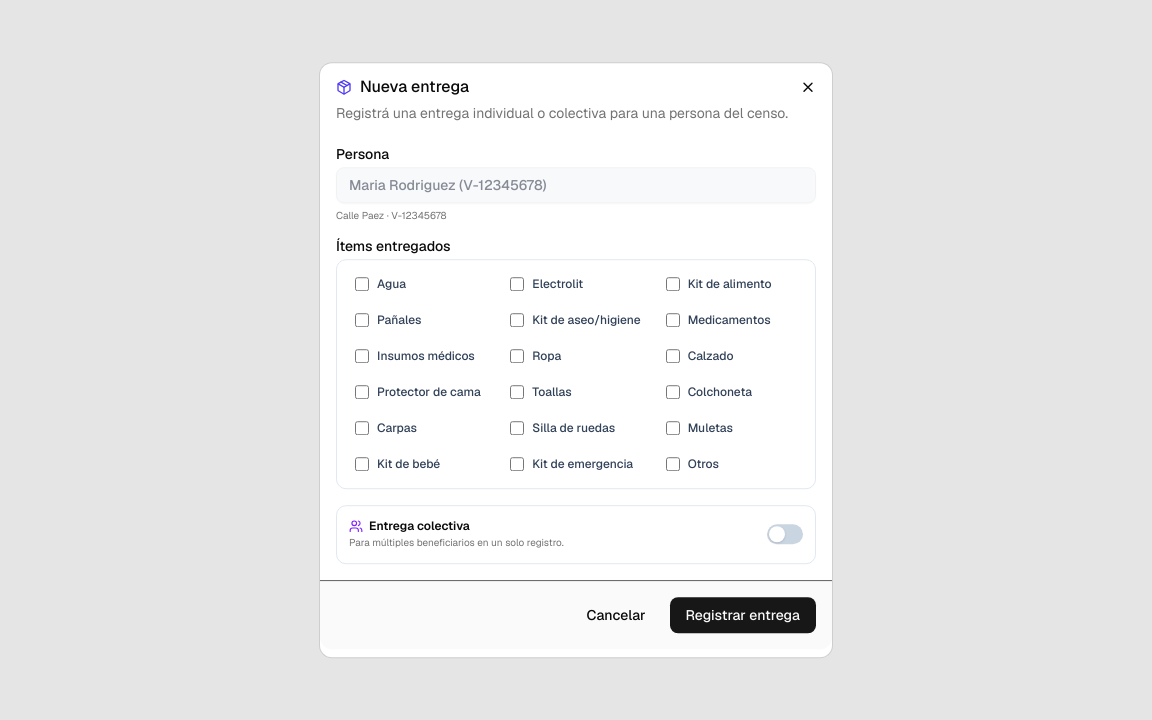
Test: QuickDeliveryDialog › surfaces a server error message in the dialog when createDelivery returns null
Click the checkbox labelled "Agua": (362, 284) [355,278,369,292]
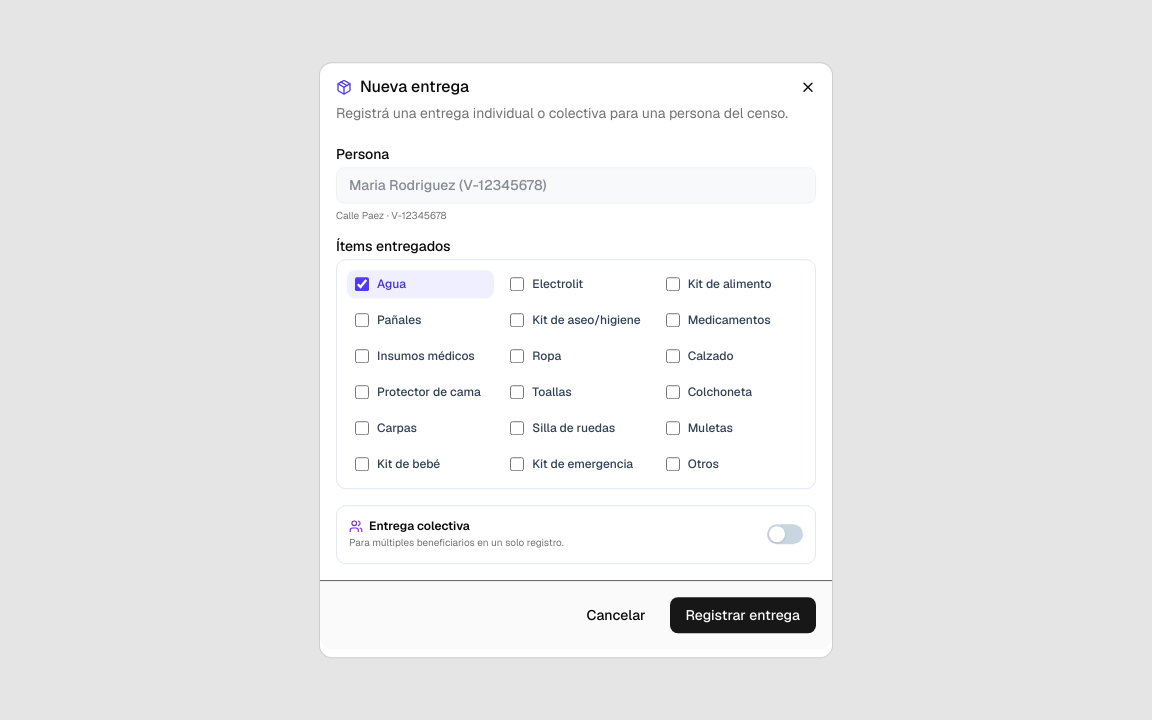
Submit the form, box [336,139,816,641]
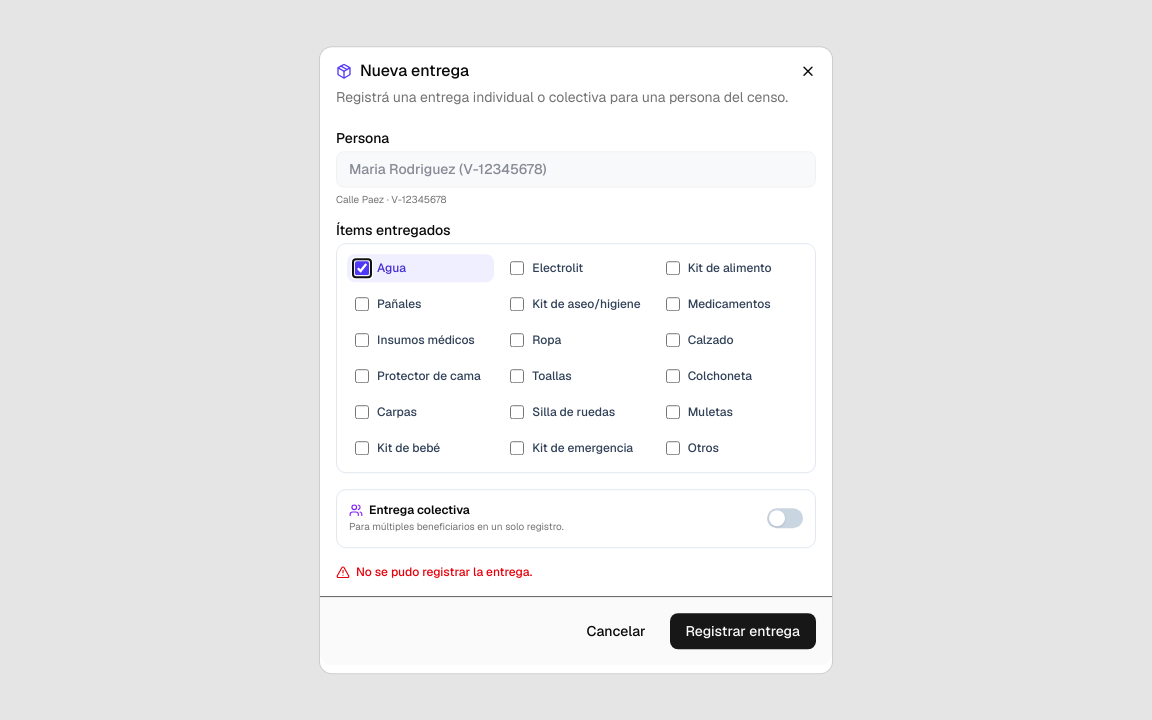
Now the text "No se pudo registrar la entrega." is shown, box [336,564,532,580]
